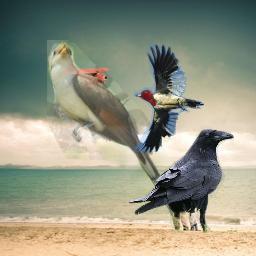Crow: (127, 129, 234, 233)
Cuckoo: (47, 40, 182, 214)
Woodpecker: (134, 44, 204, 154)
